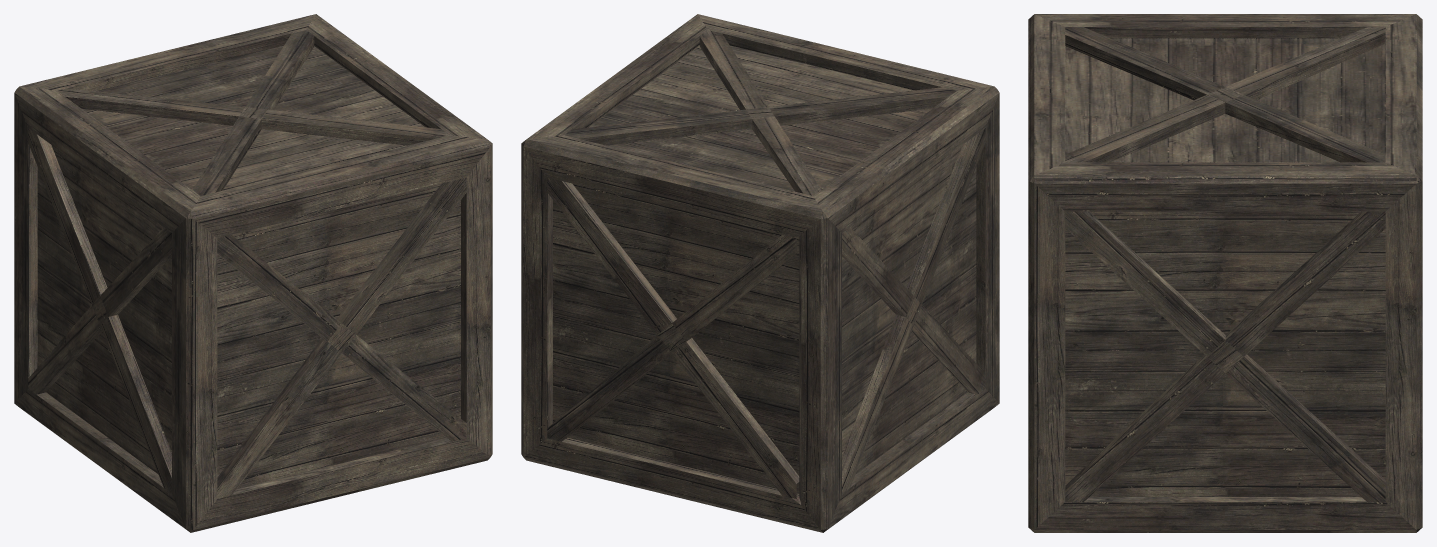
The model's file is crate.FBX.
3 views of the same model, side by side, from view 1: azimuth 30°, elevation 25°; view 2: azimuth 150°, elevation 25°; view 3: azimuth 270°, elevation 25° (orthographic). The views are drawn at different scales.
Visible parts, largest first — view 1: Box12; view 2: Box12; view 3: Box12.
Part boxes in pixels (box(x1,y1,x2,y2)): Box12: box(14, 14, 492, 532); Box12: box(521, 14, 999, 532); Box12: box(1028, 14, 1422, 532).
Size of the model in its own units: 64 by 64 by 64.
